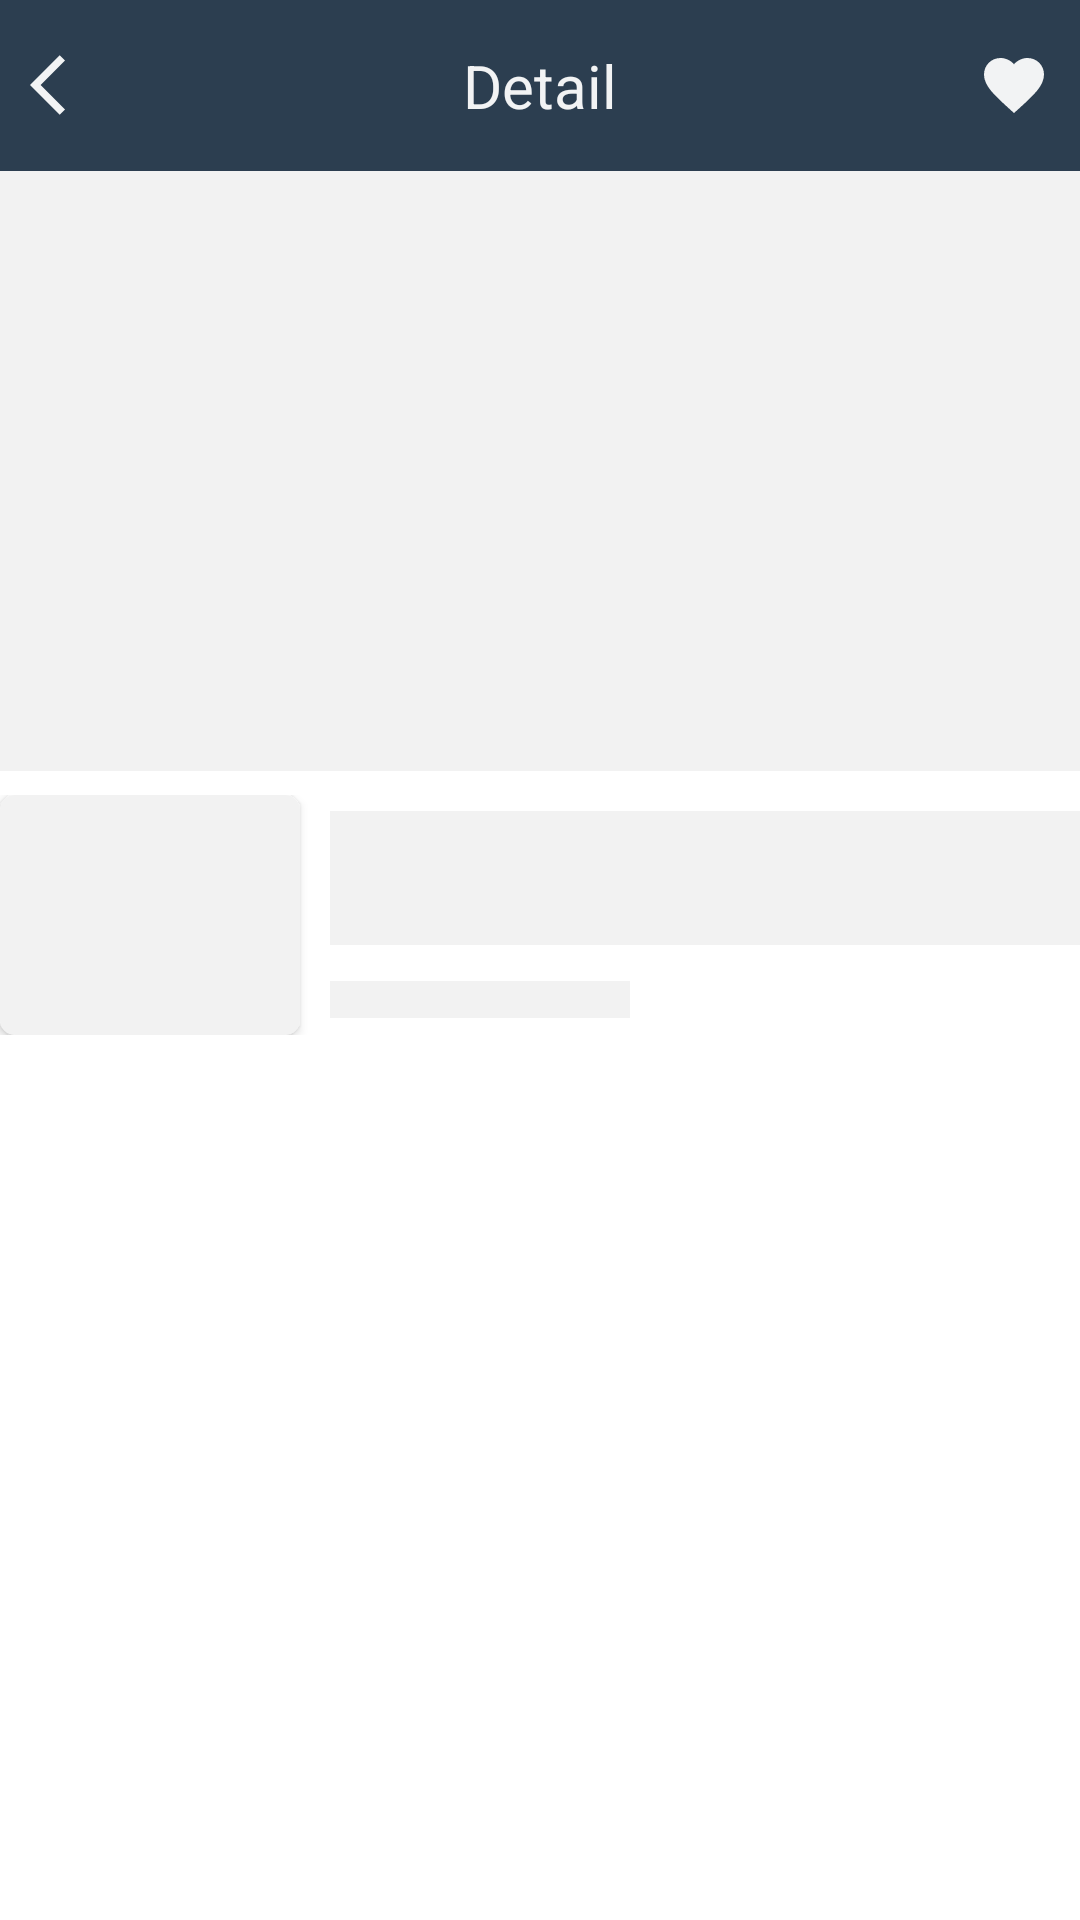

Named icons in this screenshot (1080x1920) and their centers, (x,y):
arrow back: (47,85)
favorite: (1014,85)
